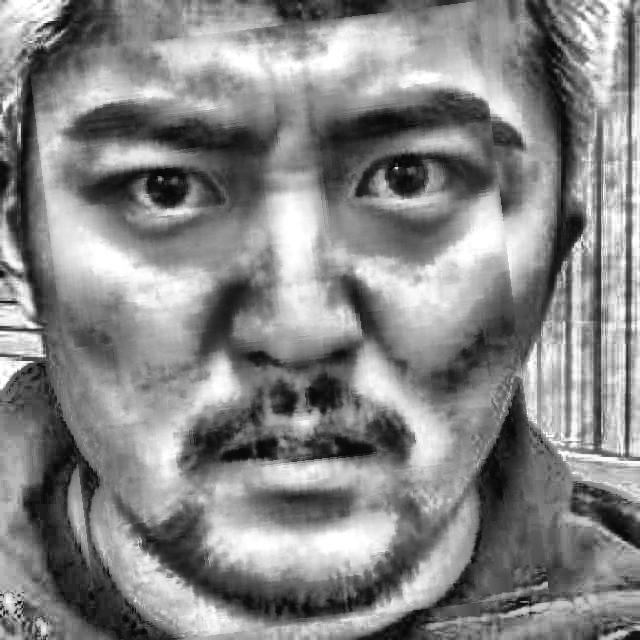angry: (46, 14, 532, 636)
